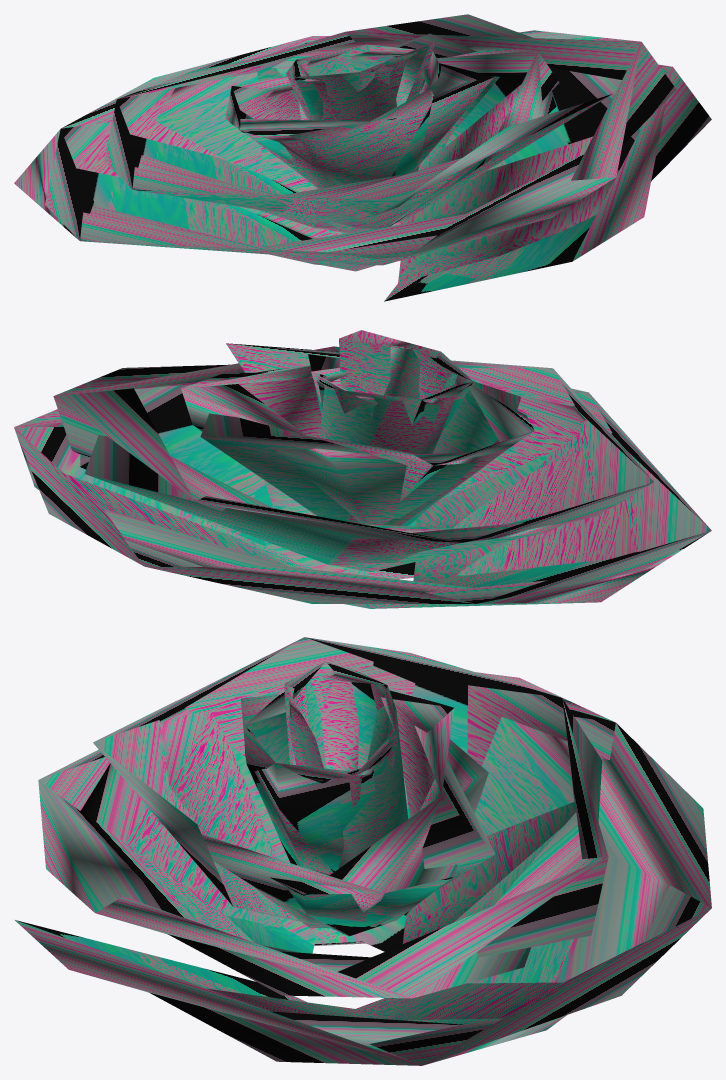
The picture shows the model from 3 angles, top to bottom: view 1: azimuth 30°, elevation 25°; view 2: azimuth 150°, elevation 25°; view 3: azimuth 270°, elevation 25°; orthographic projection. The views are drawn at different scales.
Visible parts, largest first — view 1: Cube.003; view 2: Cube.003; view 3: Cube.003.
Boxes of the visible parts, box(x1,y1,x2,y2) form: Cube.003: box(14, 14, 711, 301); Cube.003: box(14, 330, 711, 608); Cube.003: box(15, 637, 711, 1065).
Size of the model in its own units: 6.76 by 2.39 by 5.06.
Materials: 1 (1 with a texture image).
